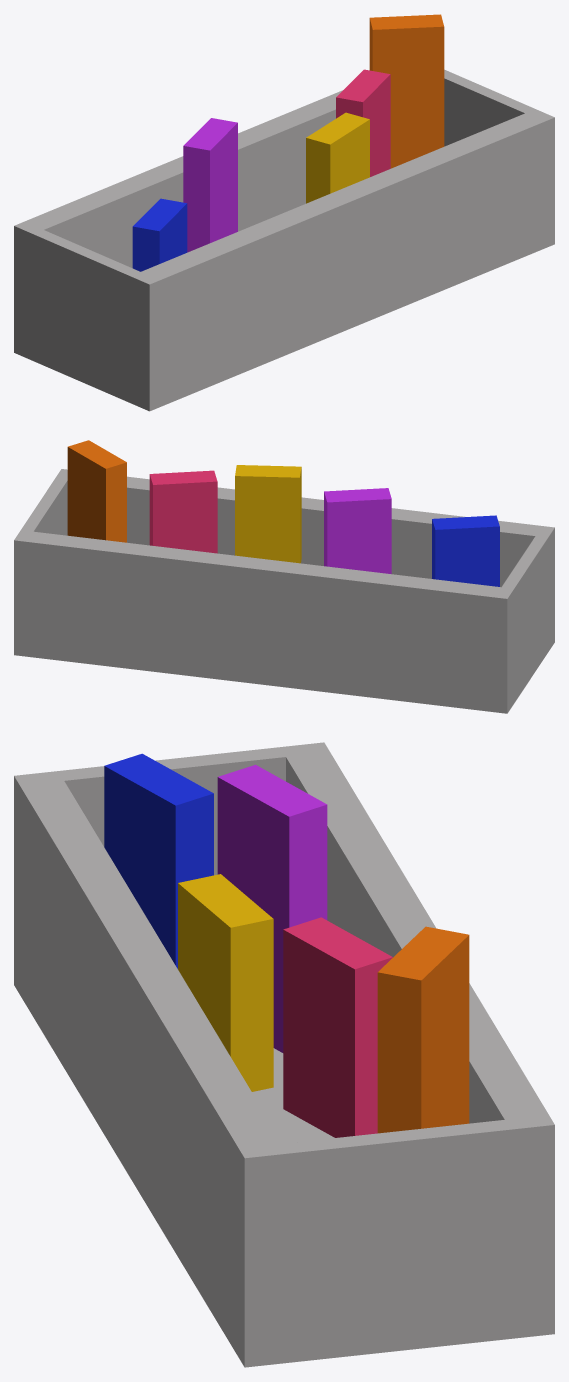
File: _asket.fbx
3 renders of one model, top to bottom at view 1: azimuth 30°, elevation 25°; view 2: azimuth 150°, elevation 25°; view 3: azimuth 270°, elevation 25°, orthographic. The views are drawn at different scales.
Parts seen in each view (by area): view 1: Cube.020, Cube.025, Cube.027, Cube.024, Cube.026, Cube.023; view 2: Cube.020, Cube.024, Cube.027, Cube.025, Cube.026, Cube.023; view 3: Cube.020, Cube.026, Cube.025, Cube.027, Cube.024, Cube.023.
Part boxes in pixels (left/top/right/bottom): Cube.020: left=14, top=69, right=554, bottom=411; Cube.025: left=369, top=14, right=444, bottom=168; Cube.027: left=183, top=118, right=237, bottom=252; Cube.024: left=306, top=112, right=369, bottom=203; Cube.026: left=336, top=69, right=390, bottom=176; Cube.023: left=132, top=198, right=187, bottom=271; Cube.020: left=14, top=469, right=554, bottom=713; Cube.024: left=235, top=465, right=301, bottom=563; Cube.027: left=324, top=488, right=391, bottom=573; Cube.025: left=67, top=440, right=126, bottom=542; Cube.026: left=149, top=470, right=217, bottom=553; Cube.023: left=432, top=515, right=499, bottom=586; Cube.020: left=14, top=742, right=554, bottom=1367; Cube.026: left=283, top=917, right=392, bottom=1137; Cube.025: left=377, top=926, right=469, bottom=1133; Cube.027: left=217, top=764, right=327, bottom=1052; Cube.024: left=178, top=874, right=273, bottom=1091; Cube.023: left=104, top=753, right=213, bottom=968.
Bounding box in the file's own units: 145 × 55.23 × 79.97.
